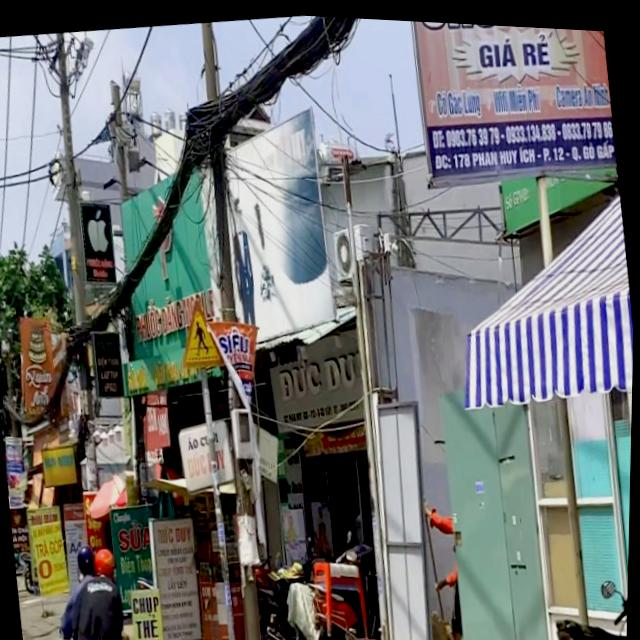Nguoi di bo cat ngang: (173, 287, 231, 373)
